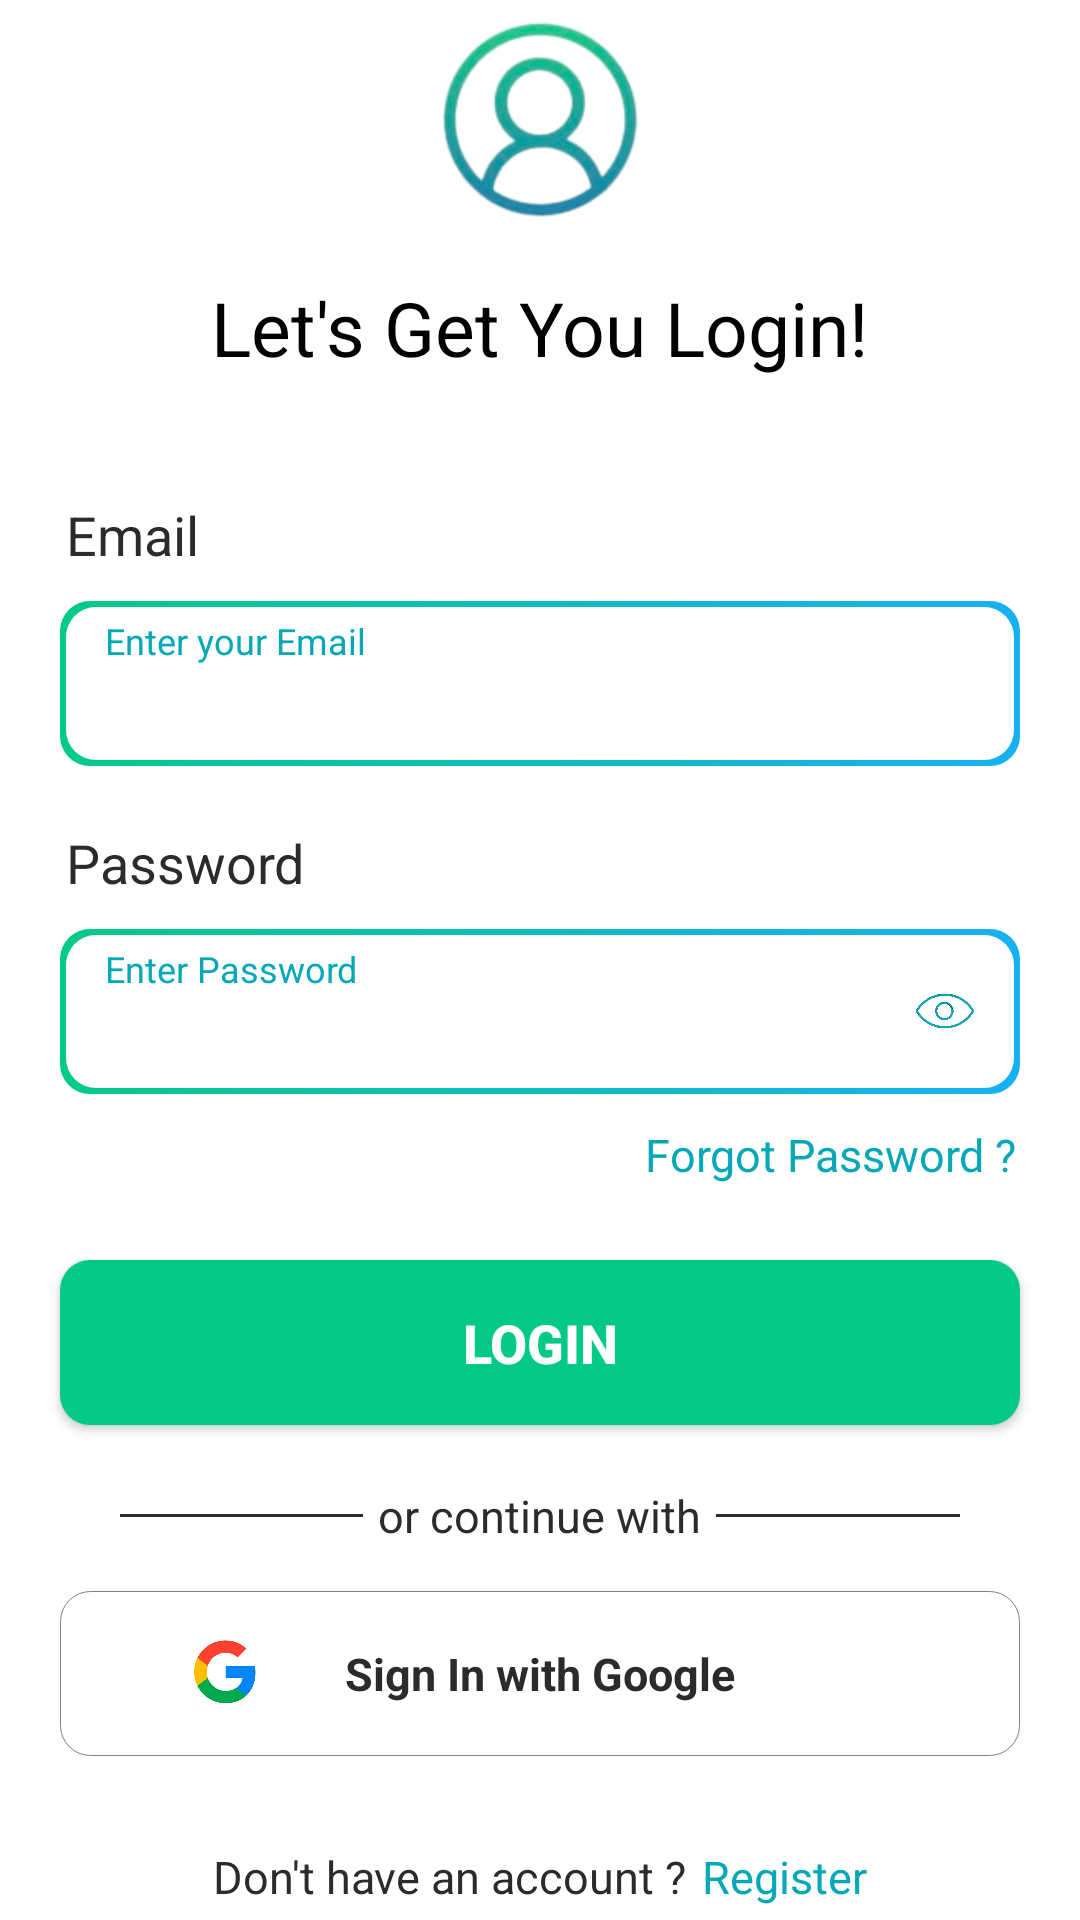

Icon bounding boxes for this 1080×1920 phone screenshot, format (x1, y1, x2, y2):
contact: (443, 22, 638, 217)
show pass: (916, 993, 974, 1028)
